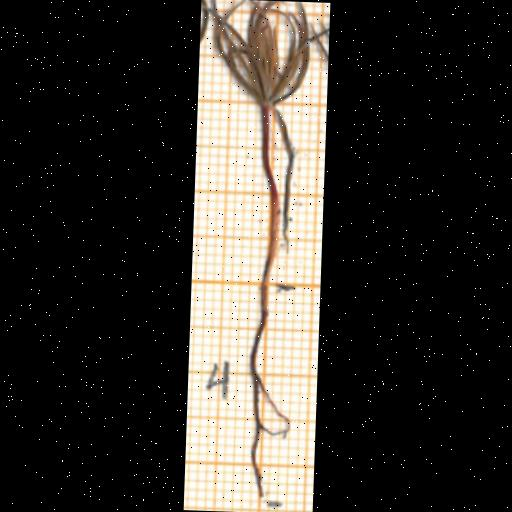flowerPinus: (209, 0, 308, 106)
rootPinus: (249, 287, 289, 497)
stemPinus: (259, 105, 278, 287), (261, 105, 278, 289)
